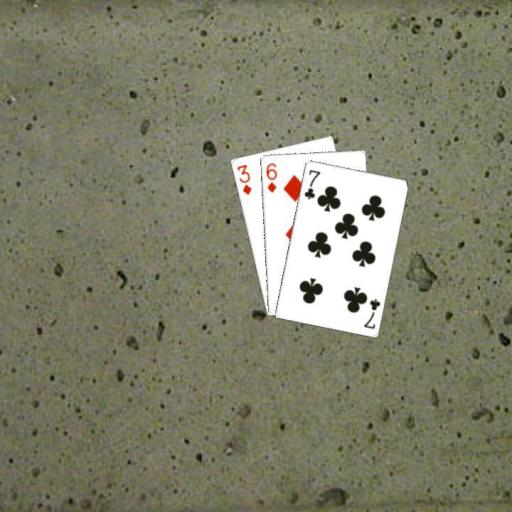3D: (234, 162, 253, 197)
6D: (262, 159, 278, 194)
7C: (361, 295, 381, 330), (301, 167, 321, 201)
